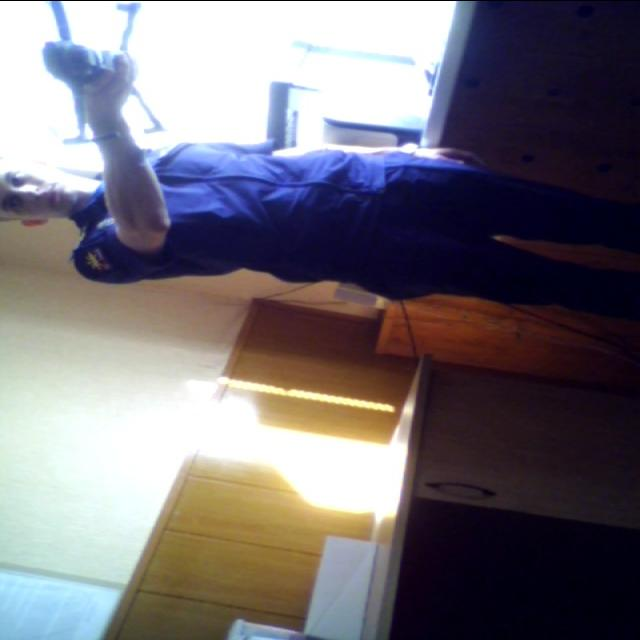drone: (24, 0, 160, 158)
